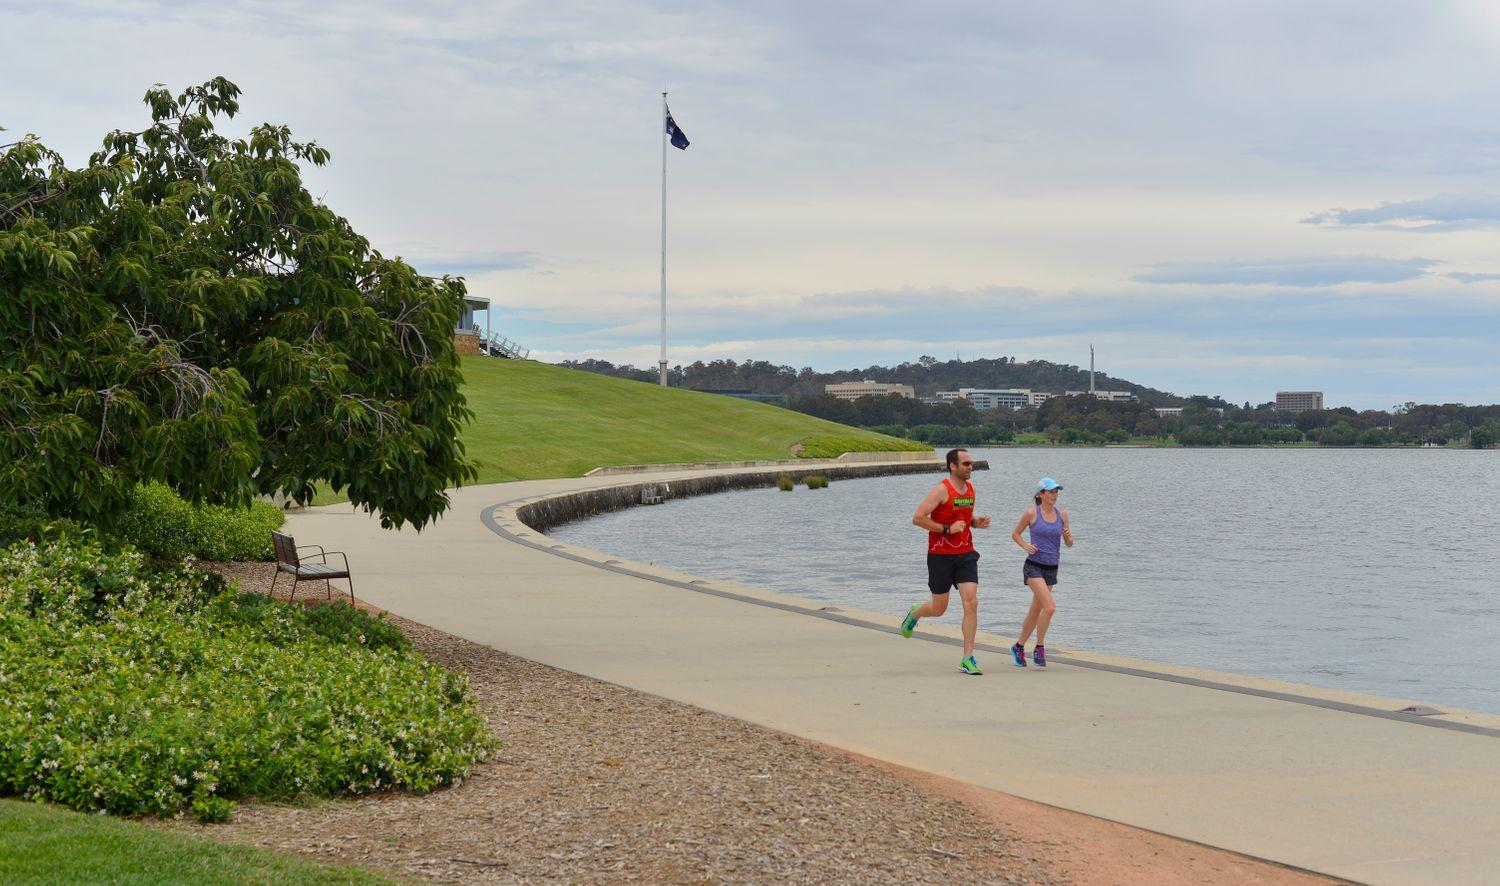Person: (857, 426, 1007, 671), (1007, 460, 1104, 668)
